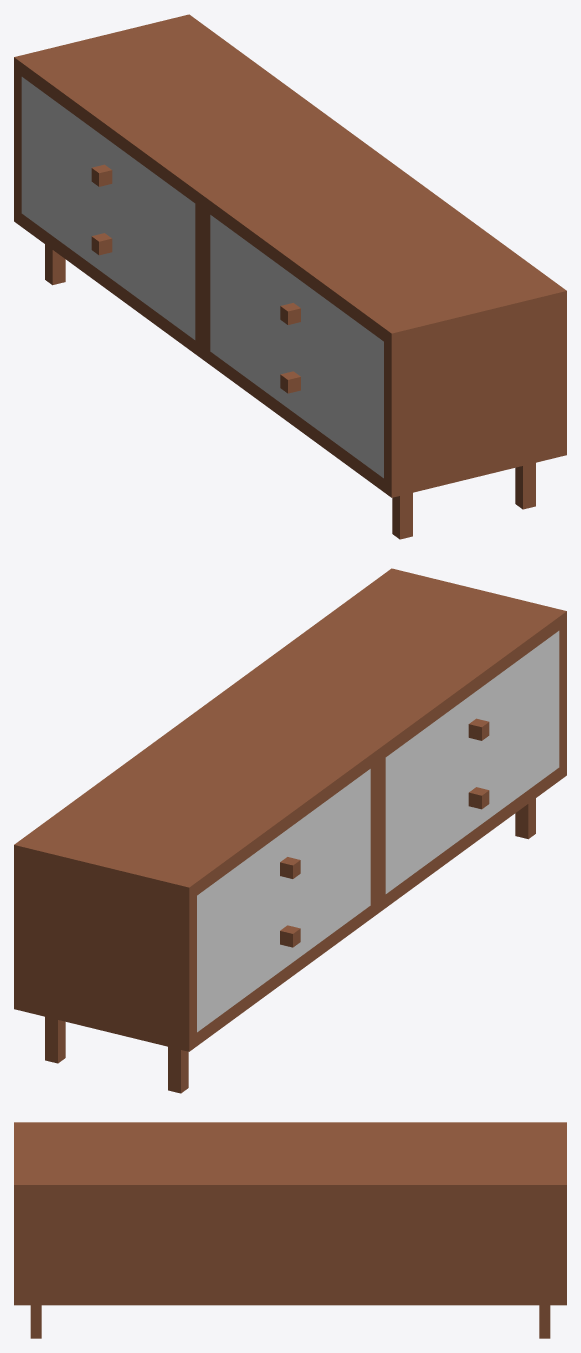
The model's file is Armari Mitja.fbx.
3 views of the same model, one above another, from view 1: azimuth 30°, elevation 25°; view 2: azimuth 150°, elevation 25°; view 3: azimuth 270°, elevation 25° (orthographic). The views are drawn at different scales.
Visible parts, largest first — view 1: Cube.092, Cube.098, Cube.093, Cube.094, Cube.097; view 2: Cube.092, Cube.097, Cube.094, Cube.093, Cube.098; view 3: Cube.092.
Part boxes in pixels (box(x1,y1,x2,y2)): Cube.092: box(14, 14, 566, 539); Cube.098: box(21, 77, 195, 271); Cube.093: box(21, 145, 195, 339); Cube.094: box(210, 283, 383, 478); Cube.097: box(210, 215, 383, 409); Cube.092: box(14, 568, 566, 1093); Cube.097: box(385, 631, 559, 825); Cube.094: box(385, 699, 559, 893); Cube.093: box(197, 837, 370, 1032); Cube.098: box(197, 769, 370, 963); Cube.092: box(14, 1122, 566, 1338).
Bounding box in the file's own units: 2.88 × 3.2 × 10.
